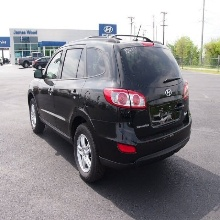no damage: (28, 34, 192, 185), (19, 50, 55, 70)
